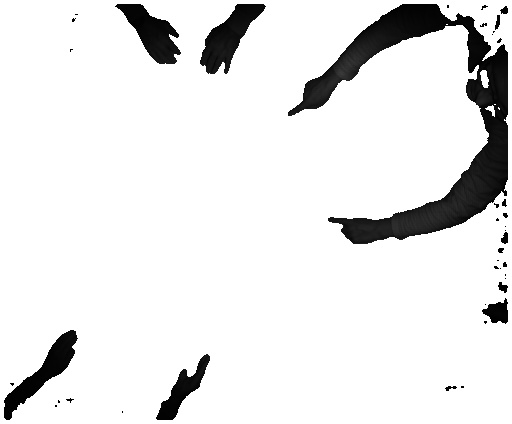hand: (200, 29, 244, 79), (288, 76, 336, 119), (138, 18, 183, 63), (42, 328, 79, 381), (328, 216, 385, 247)
spine: (175, 352, 215, 403)
